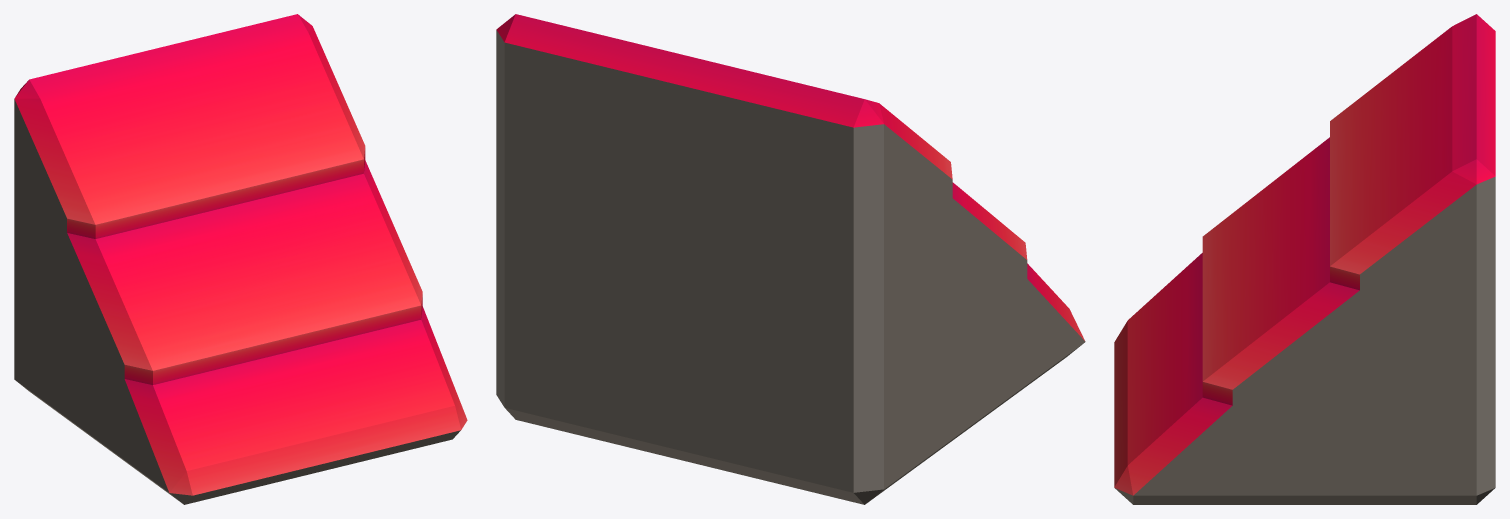
Rendered from m_kub_roofPink.FBX.
3 views of the same model, side by side, from view 1: azimuth 30°, elevation 25°; view 2: azimuth 150°, elevation 25°; view 3: azimuth 270°, elevation 25° (orthographic). The views are drawn at different scales.
Visible parts, largest first — view 1: m_kub_roofPink; view 2: m_kub_roofPink; view 3: m_kub_roofPink.
Boxes of the visible parts, x1,y1,x2,y2 form: m_kub_roofPink: (14,14,467,504); m_kub_roofPink: (496,14,1085,504); m_kub_roofPink: (1114,14,1495,504).
Bounding box in the file's own units: 2 × 2 × 2.
